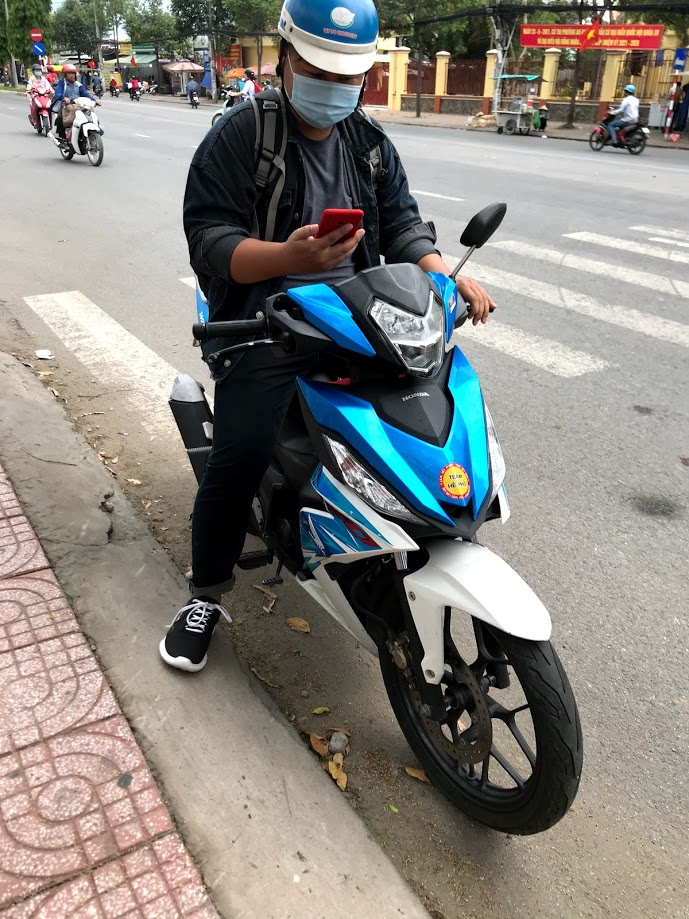dieu khien xe may: (218, 2, 503, 565)
su dung dien thoai: (253, 1, 379, 275)
